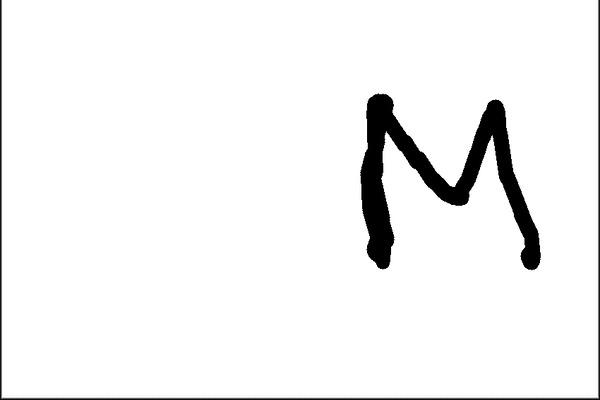M: (357, 89, 544, 273)
